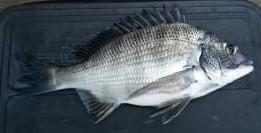fish: (13, 6, 255, 124)
